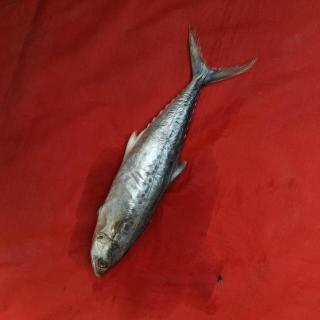Ikan: (86, 25, 263, 287)
